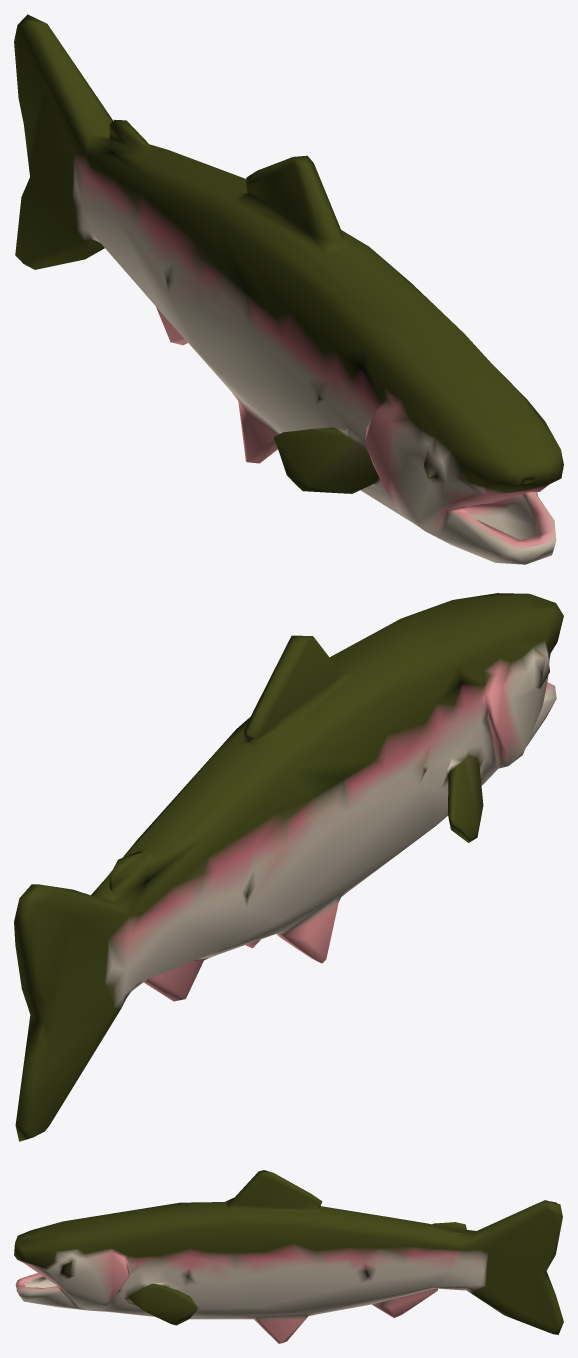
File: gen3d-trout-lod0.glb
The picture shows the model from 3 angles, top to bottom: view 1: azimuth 30°, elevation 25°; view 2: azimuth 150°, elevation 25°; view 3: azimuth 270°, elevation 25°; orthographic projection. The views are drawn at different scales.
Parts seen in each view (by area): view 1: part_0; view 2: part_0; view 3: part_0.
Part boxes in pixels (x1,y1,x2,y2): part_0: (14,14,563,564); part_0: (14,593,563,1141); part_0: (14,1170,563,1343).
Bounding box in the file's own units: 0.6174 × 0.9852 × 3.
